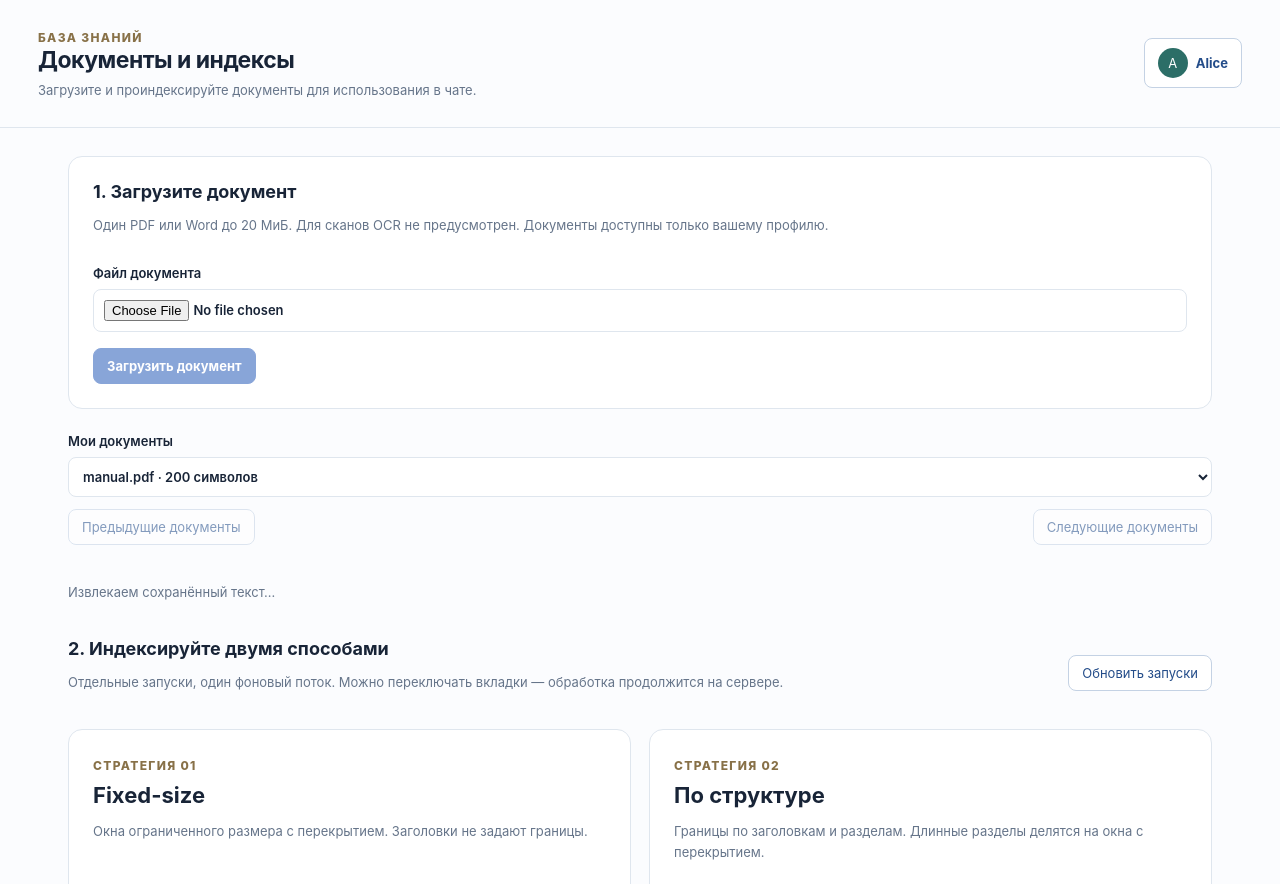
Scenario: RAG documents › does not display stale document data after switching and aborts on unmount
Select "second.docx · 200 символов" in the dropdown labelled "Мои документы" at coordinates (640, 477), box [68,457,1212,497]
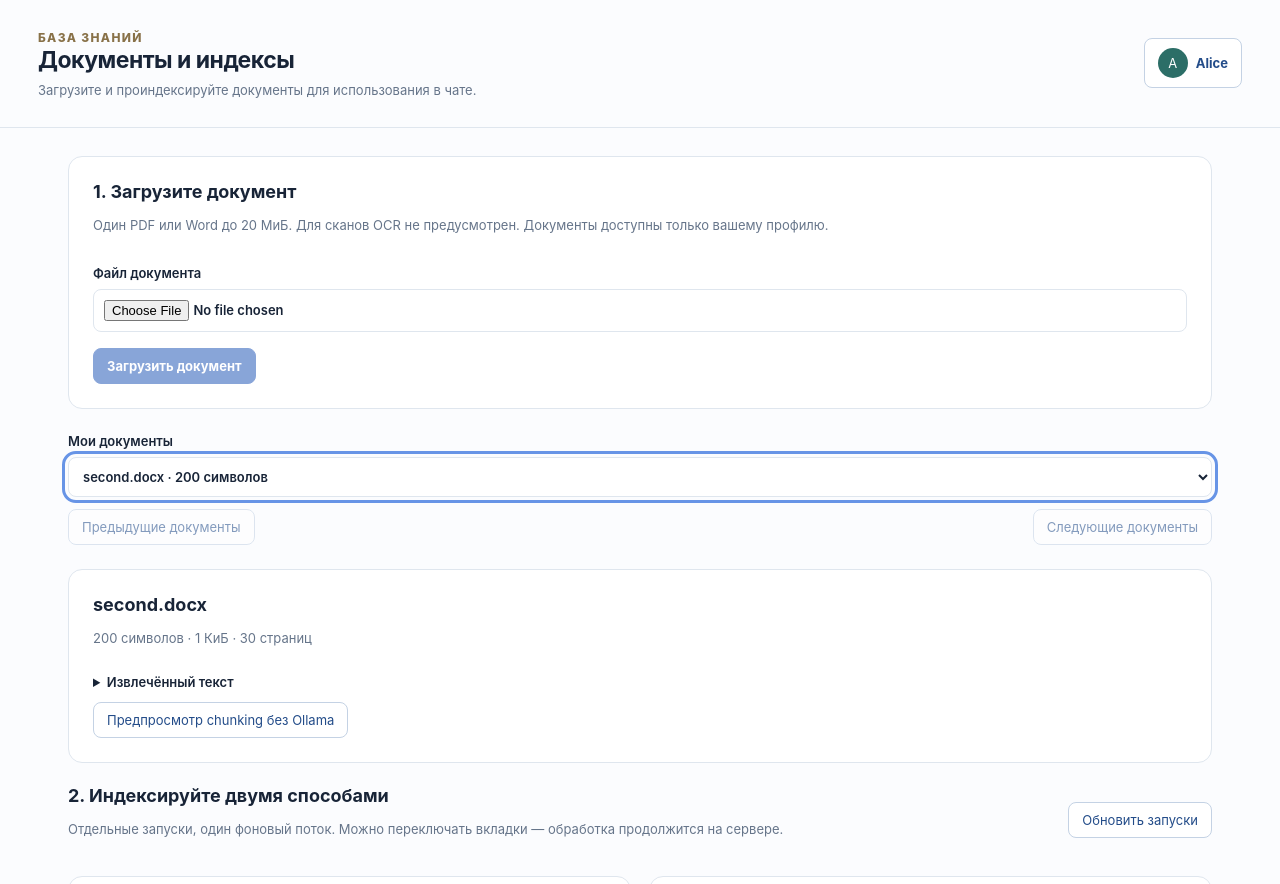
Expected: the heading "manual.pdf" is not shown
Expected: the heading "second.docx" is shown, [93,594,207,615]
